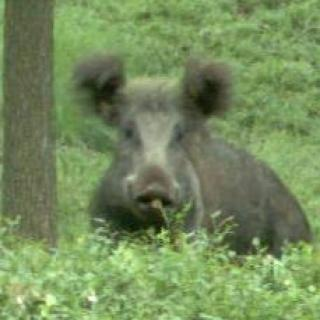Pig: (67, 35, 316, 255)
